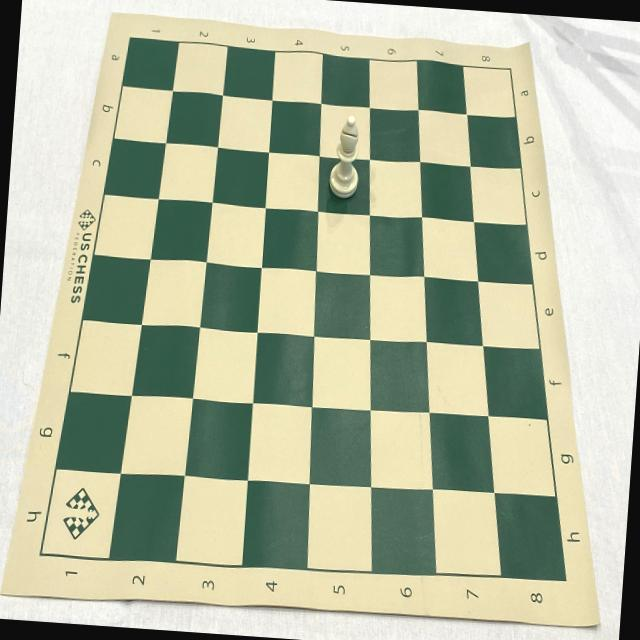white-bishop: (327, 114, 363, 200)
